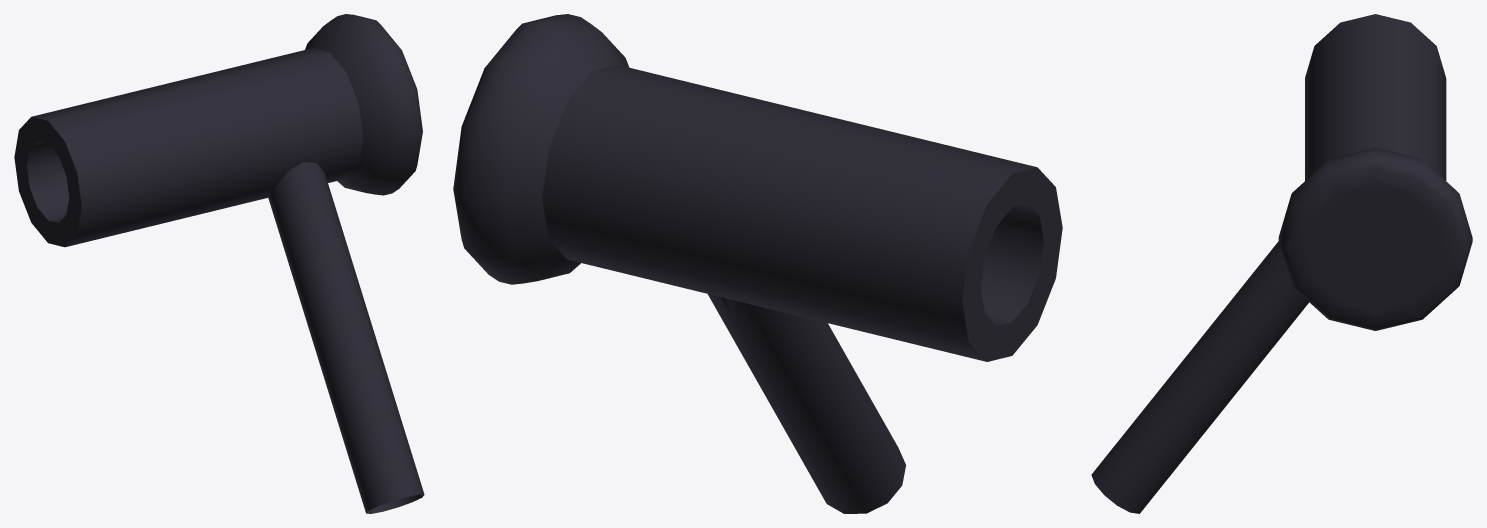
Rendered from Assist_jixiebi01_L.FBX.
3 views of the same model, side by side, from view 1: azimuth 30°, elevation 25°; view 2: azimuth 150°, elevation 25°; view 3: azimuth 270°, elevation 25° (orthographic). The views are drawn at different scales.
Parts seen in each view (by area): view 1: Assist_jixiebi01_L; view 2: Assist_jixiebi01_L; view 3: Assist_jixiebi01_L.
Part boxes in pixels (<box>): Assist_jixiebi01_L: <box>14,14,424,513</box>; Assist_jixiebi01_L: <box>453,14,1062,513</box>; Assist_jixiebi01_L: <box>1091,14,1472,513</box>.
Bounding box in the file's own units: 1.6 × 1.78 × 1.52.
1 material, 1 textured.
